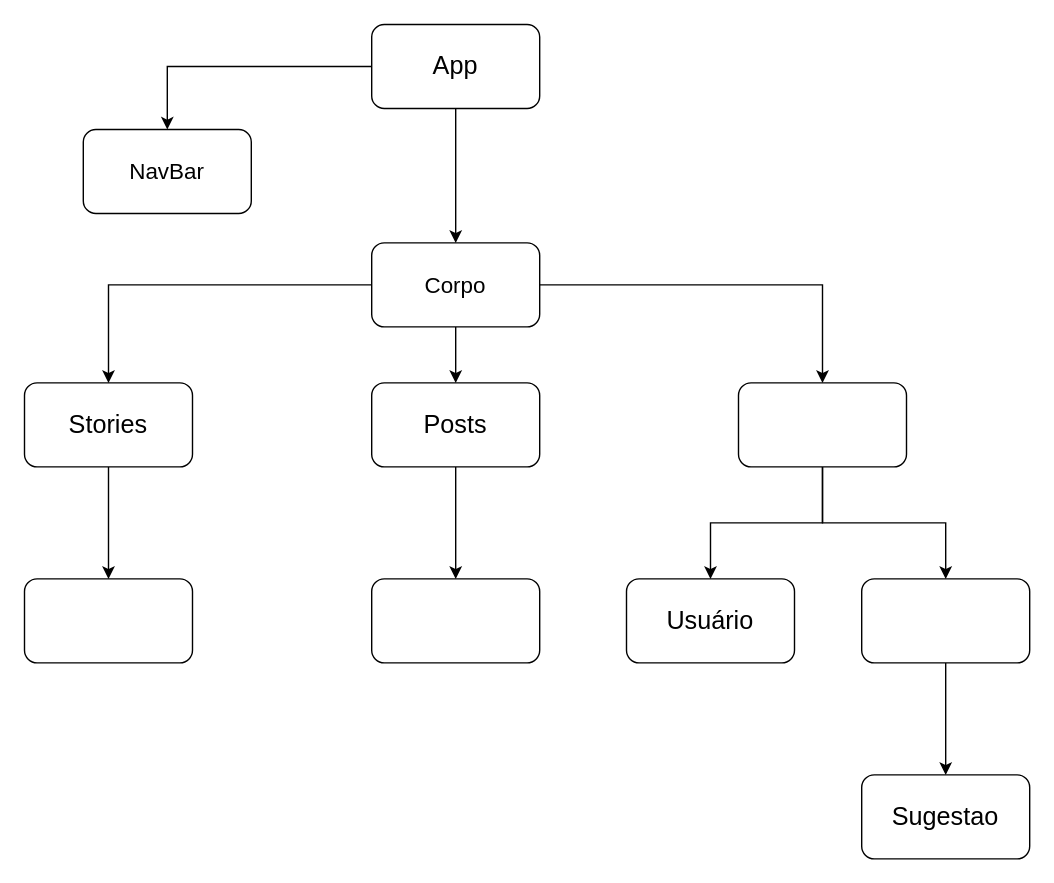
Image size: 1054x883. Some labels were removed from this diagram. Each missing label, with the box of its shape:
Post: (370, 578, 540, 663)
SideBar: (737, 382, 906, 467)
Story: (23, 578, 192, 663)
Sugestoes: (860, 578, 1030, 663)
